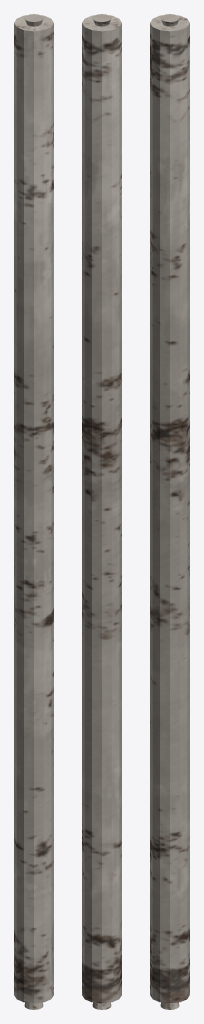
File: small_tube2.glb
The picture shows the model from 3 angles, left to right: view 1: azimuth 90°, elevation 25°; view 2: azimuth 210°, elevation 25°; view 3: azimuth 270°, elevation 25°; orthographic projection.
Visible parts, largest first — view 1: small_tube2; view 2: small_tube2; view 3: small_tube2.
Boxes of the visible parts, x1,y1,x2,y2 form: small_tube2: [14, 14, 53, 1009]; small_tube2: [82, 14, 121, 1009]; small_tube2: [150, 14, 189, 1009].
Bounding box in the file's own units: 0.088 × 2.4 × 0.088.
Materials: 1 (1 with a texture image).
